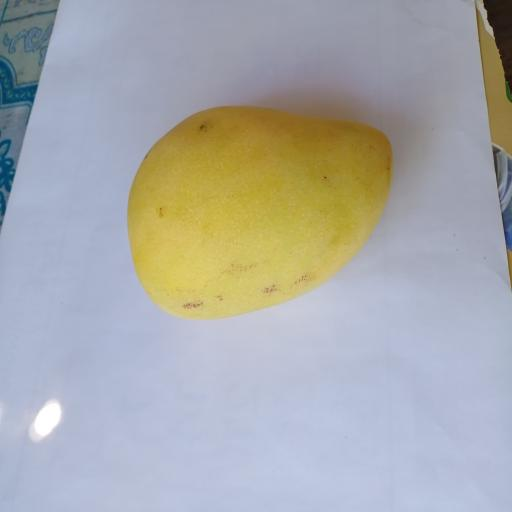mango-ripe: (101, 77, 408, 341)
